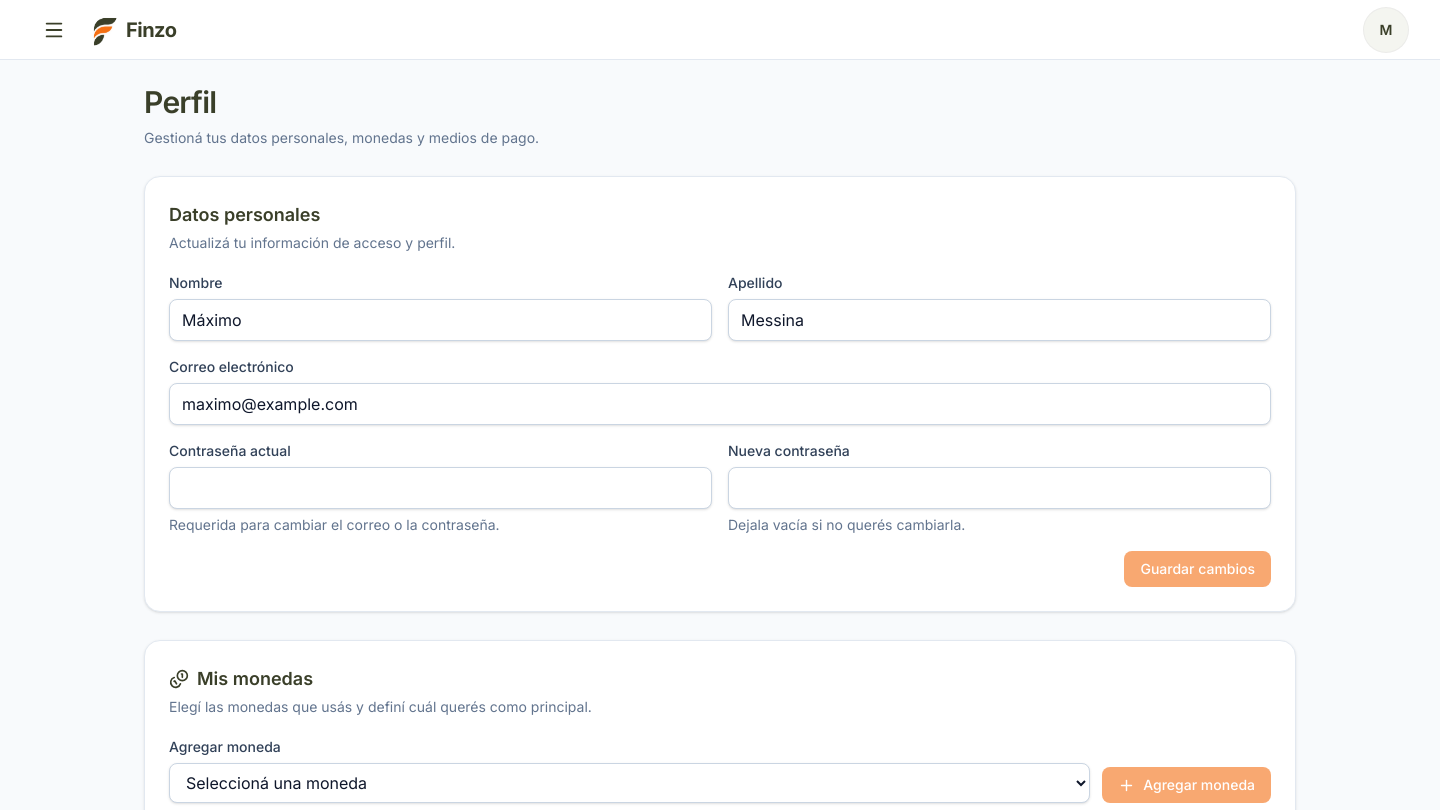
Perfil › confirma el guardado y permite reintentar solo la carga si falló la recarga de monedas
Select "EUR - Euro (€)" in the dropdown labelled "Agregar moneda". click: (630, 783)
box: top-left (169, 763), bottom-right (1090, 803)
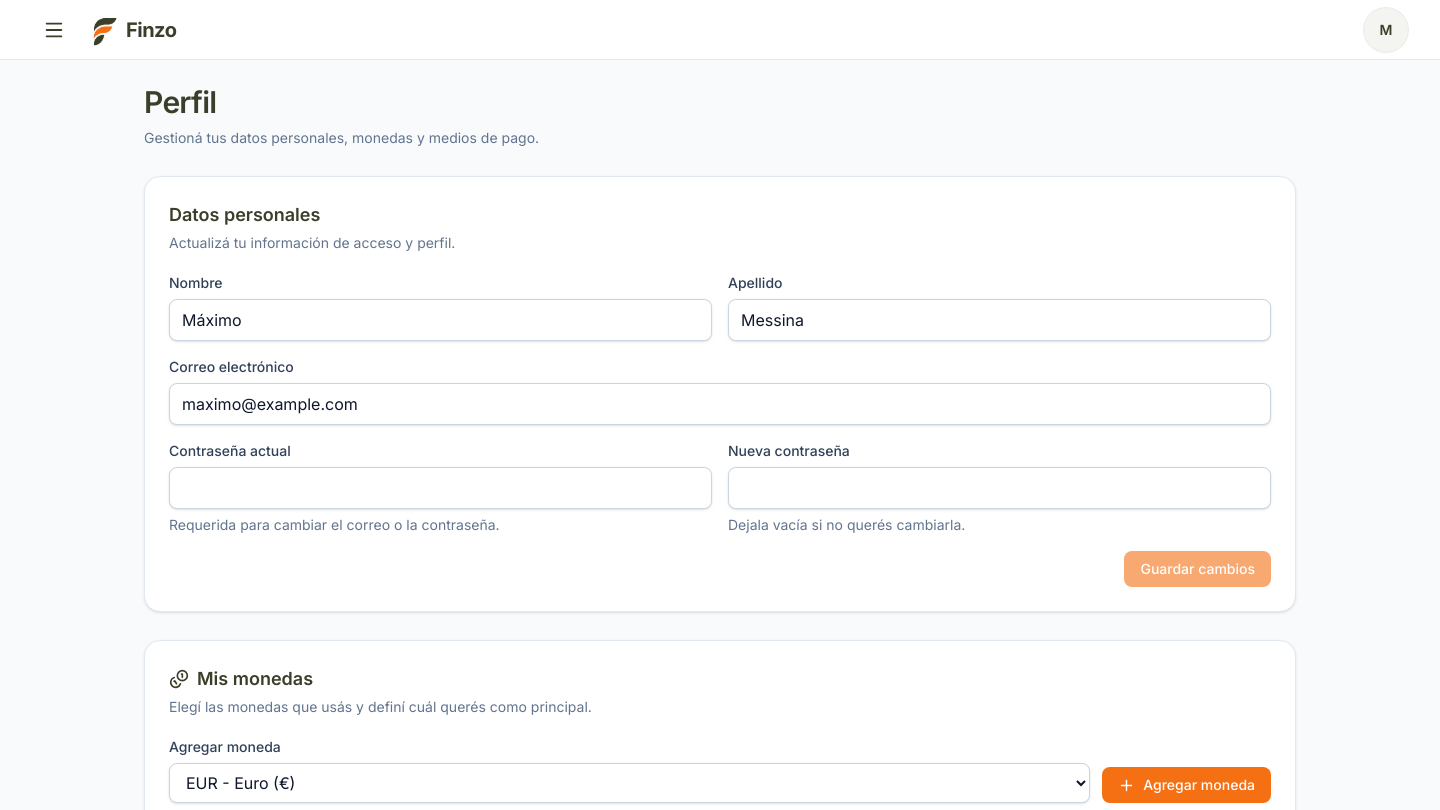
Click the button "Agregar moneda". click: (1187, 785)
box: top-left (1102, 767), bottom-right (1271, 803)
(page scrolled)
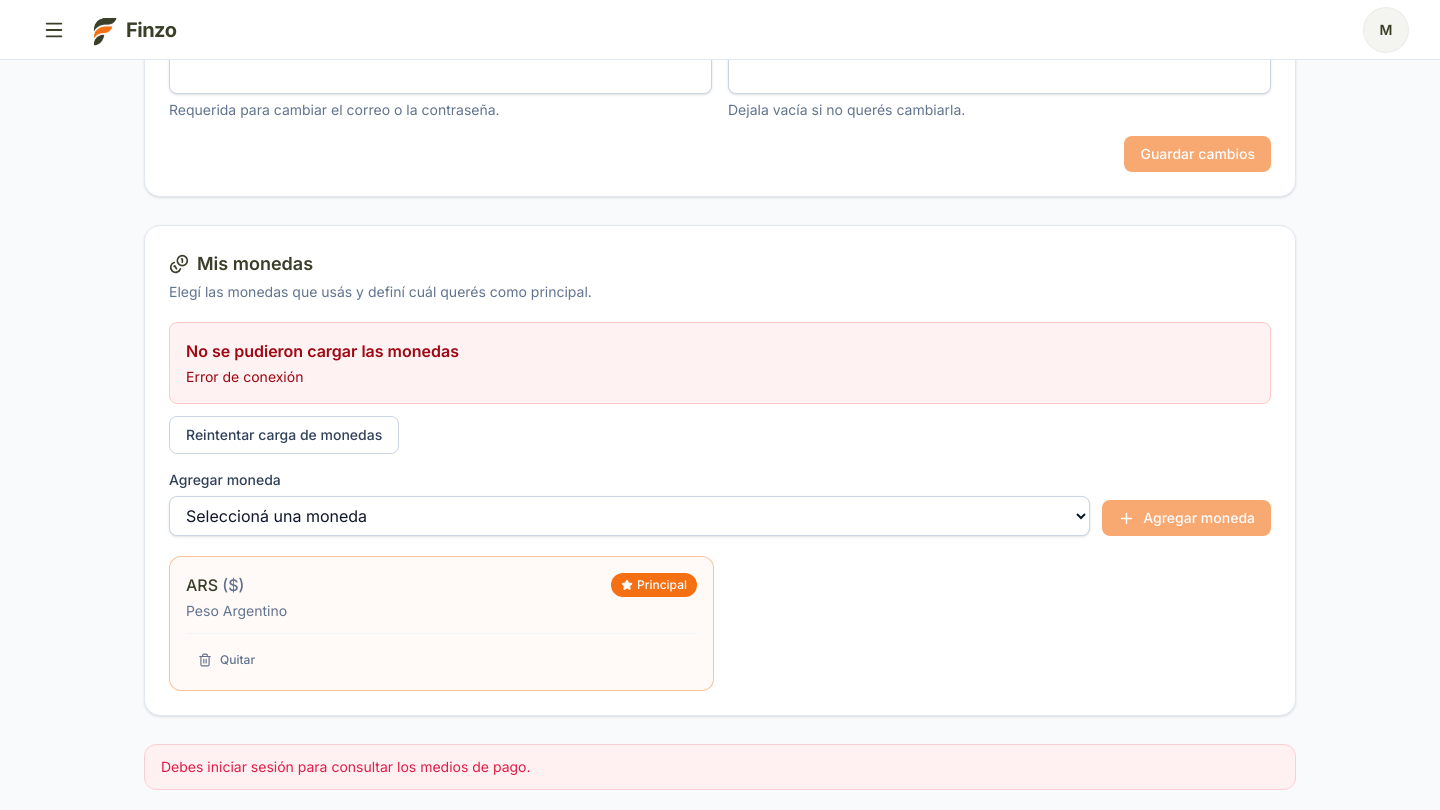
Click the button "Reintentar carga de monedas". click: (284, 435)
box: top-left (169, 416), bottom-right (399, 454)
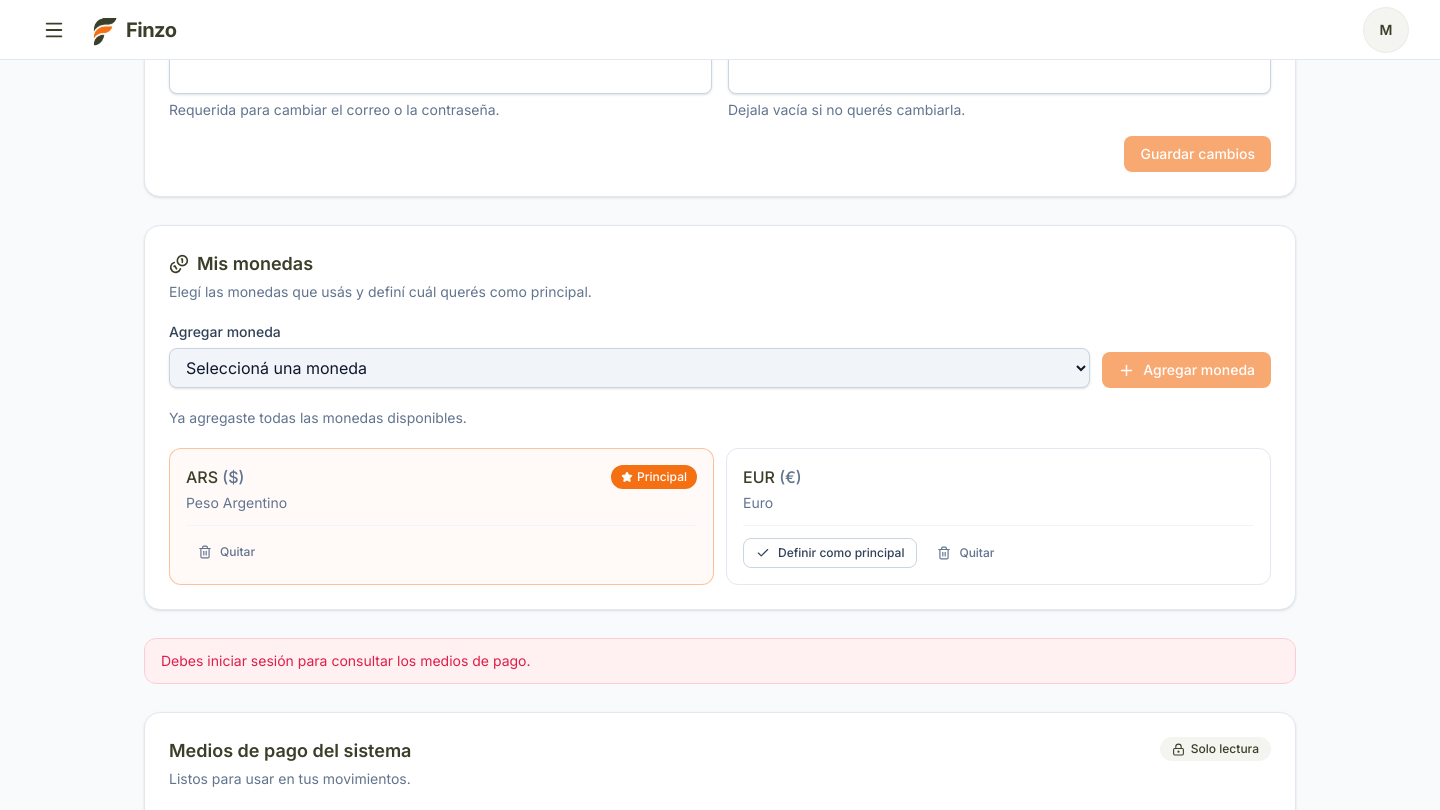
Expected: the text "Euro" is shown, top-left (743, 494), bottom-right (773, 511)
